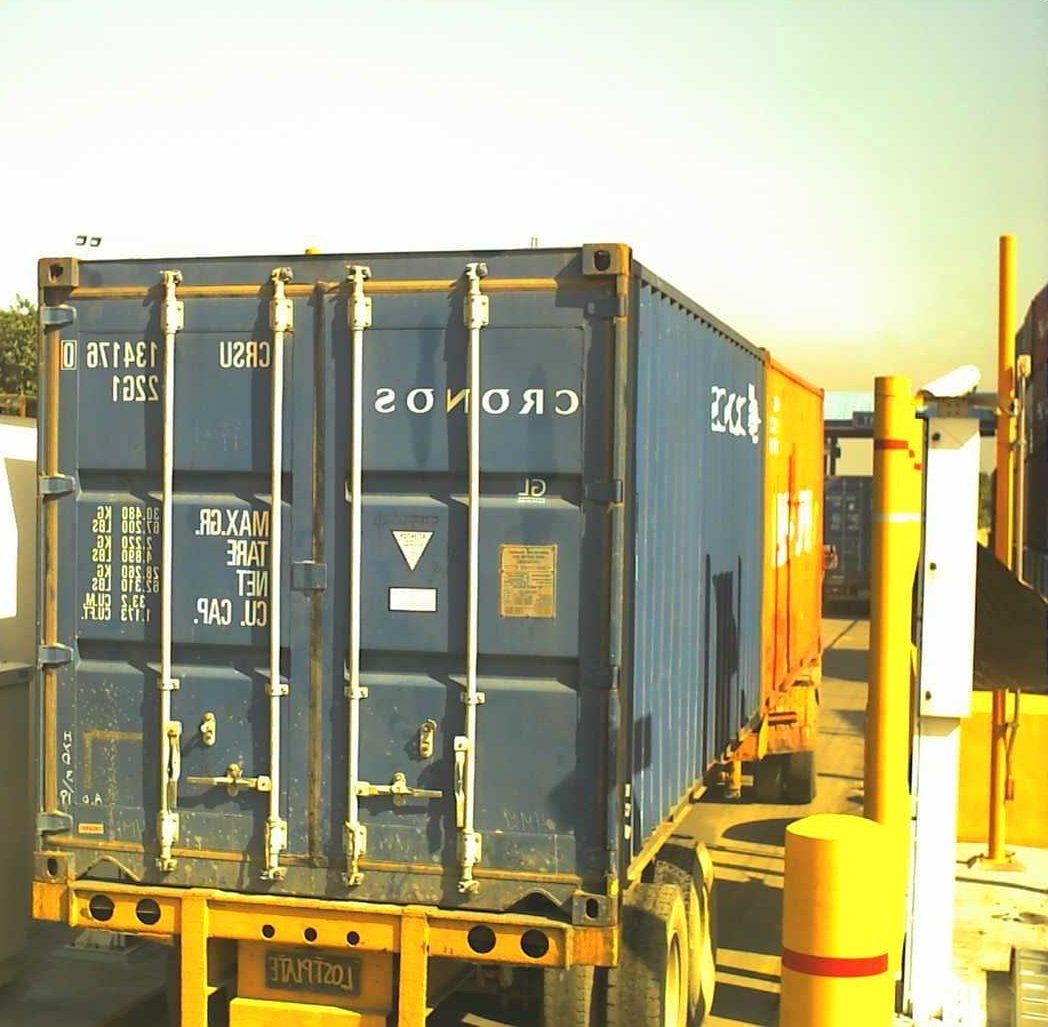container_door: (36, 253, 626, 931)
